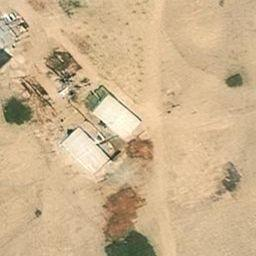manzanas: (39, 47, 141, 176)
